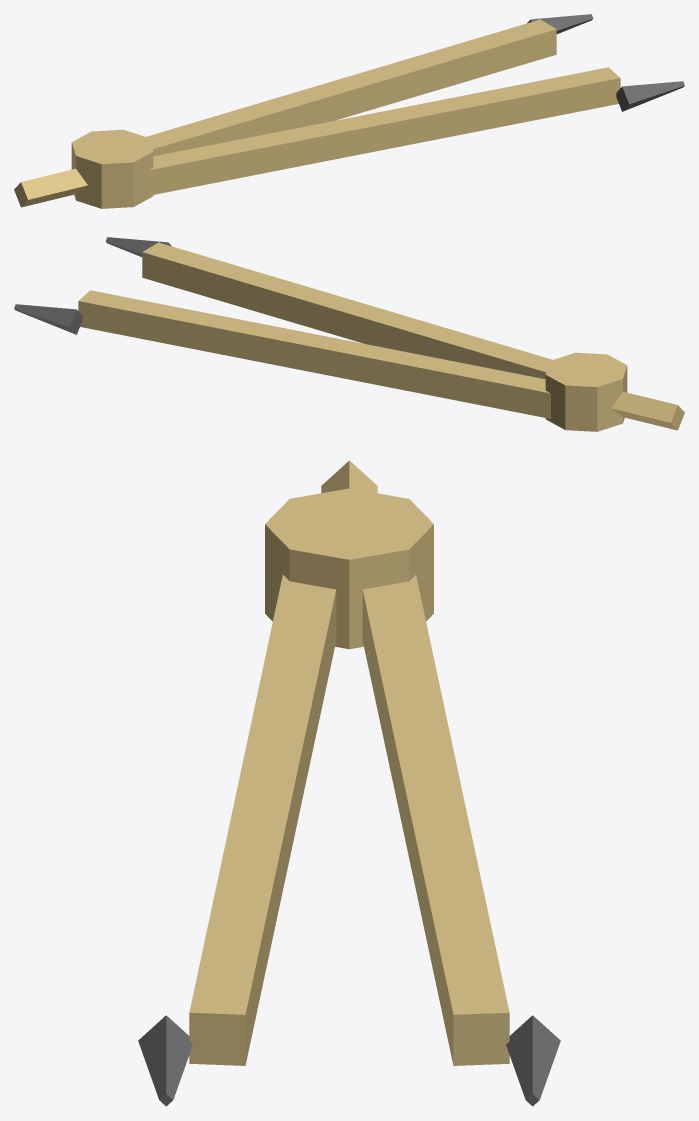
Rendered from prop-compass-divider.fbx.
3 views of the same model, one above another, from view 1: azimuth 30°, elevation 25°; view 2: azimuth 150°, elevation 25°; view 3: azimuth 270°, elevation 25° (orthographic). The views are drawn at different scales.
Parts seen in each view (by area): view 1: prop-compass-divider; view 2: prop-compass-divider; view 3: prop-compass-divider.
Part boxes in pixels (box(x1,y1,x2,y2)): prop-compass-divider: box(14, 14, 684, 208); prop-compass-divider: box(14, 237, 684, 431); prop-compass-divider: box(138, 460, 560, 1106).
Size of the model in its own units: 20.2 by 1.4 by 6.
